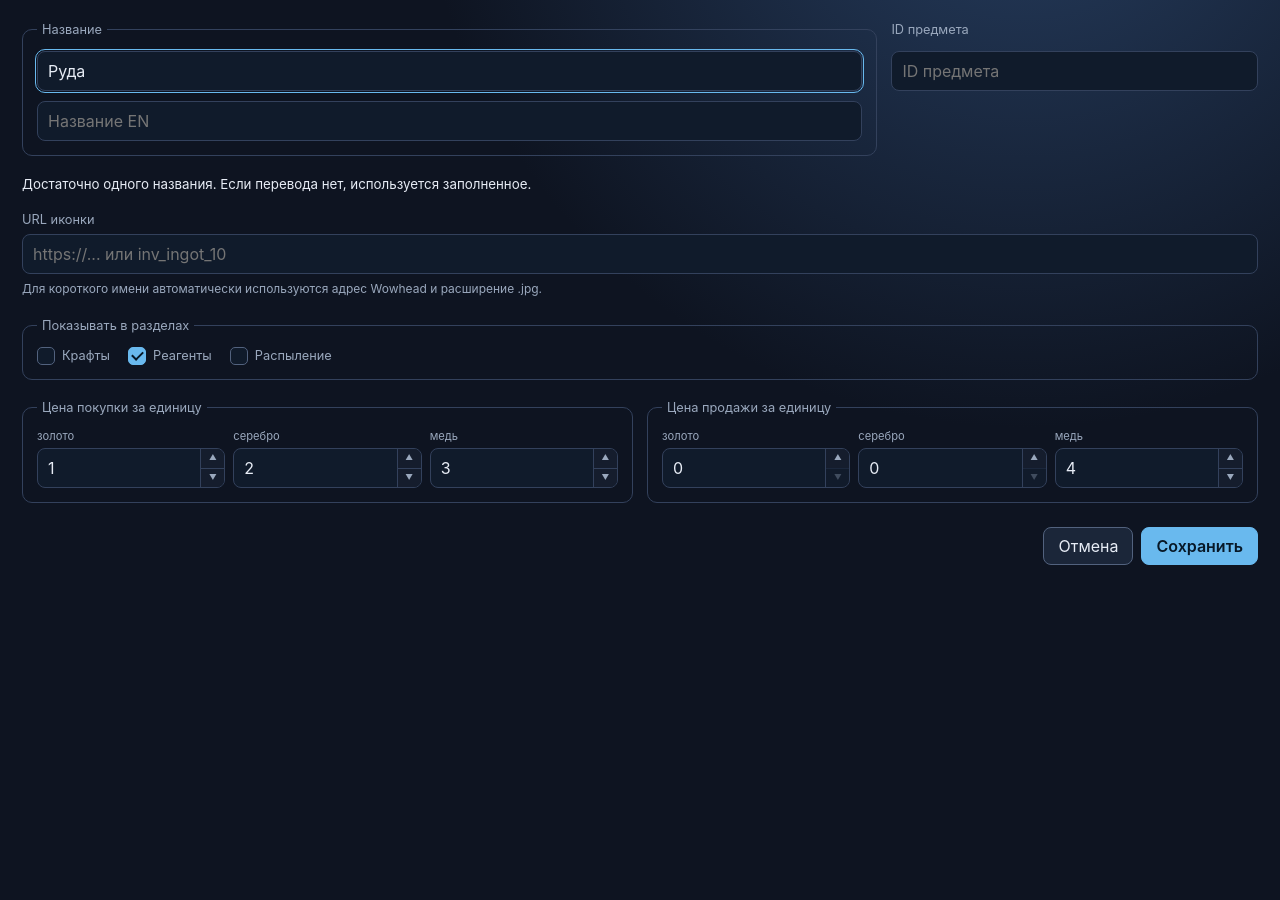
Scenario: ItemForm › отклоняет некорректный игровой ID 0
Type "0" into the field labelled "ID предмета" at (1075, 71), box [891,51,1258,91]
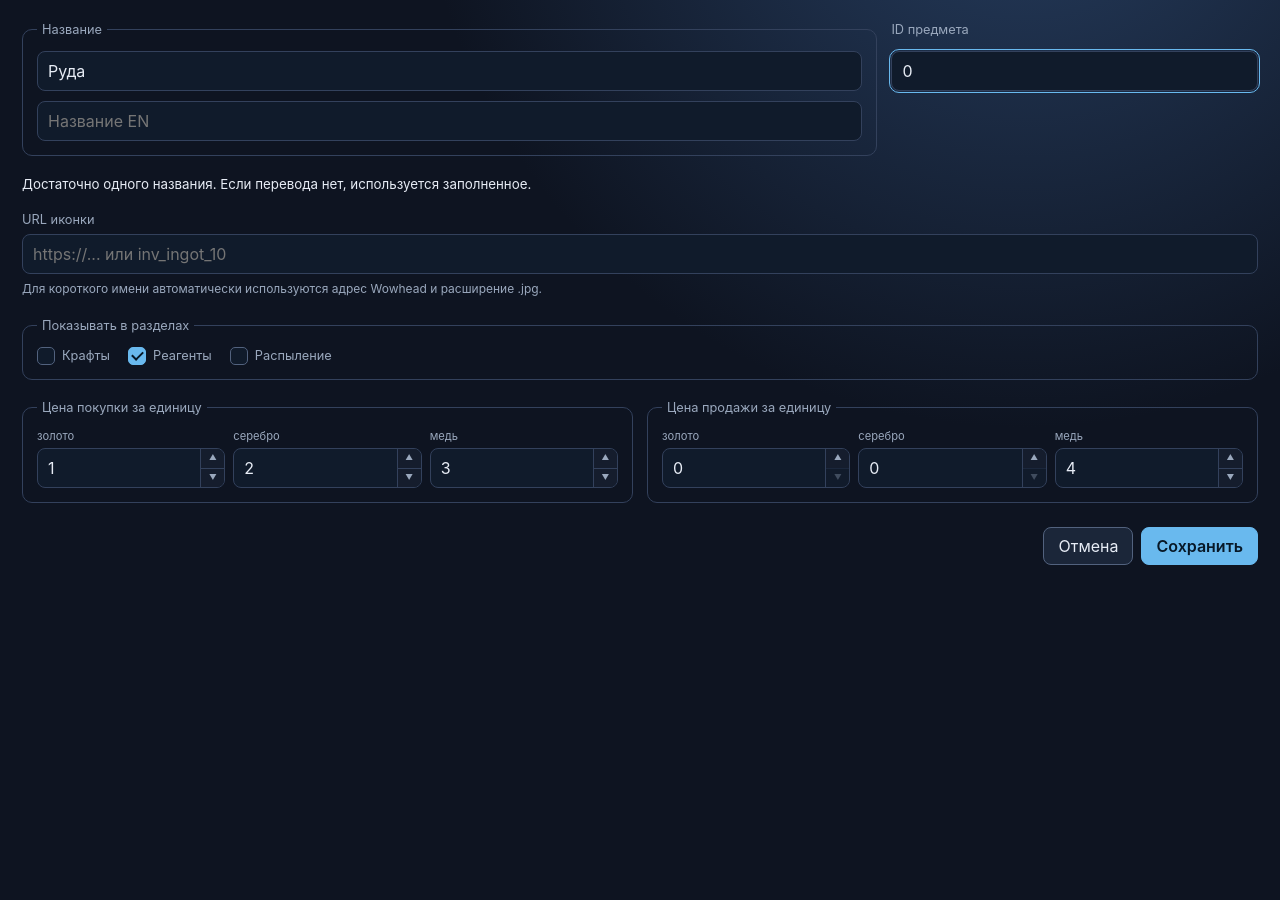
Click the button "Сохранить" at (1200, 546), box [1142,527,1258,565]
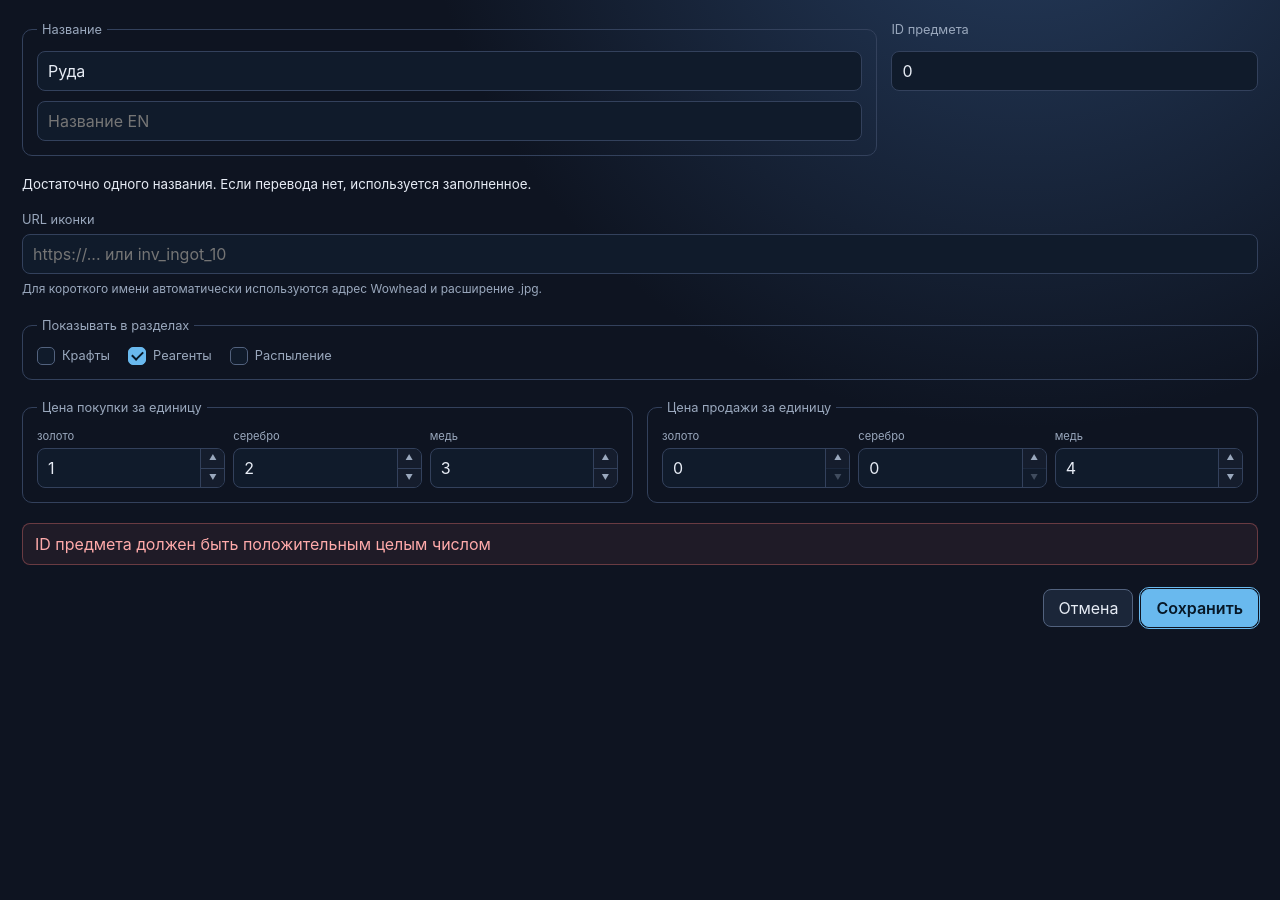
Now the text "ID предмета должен быть положительным целым числом" is shown, box [22,523,1258,565]
